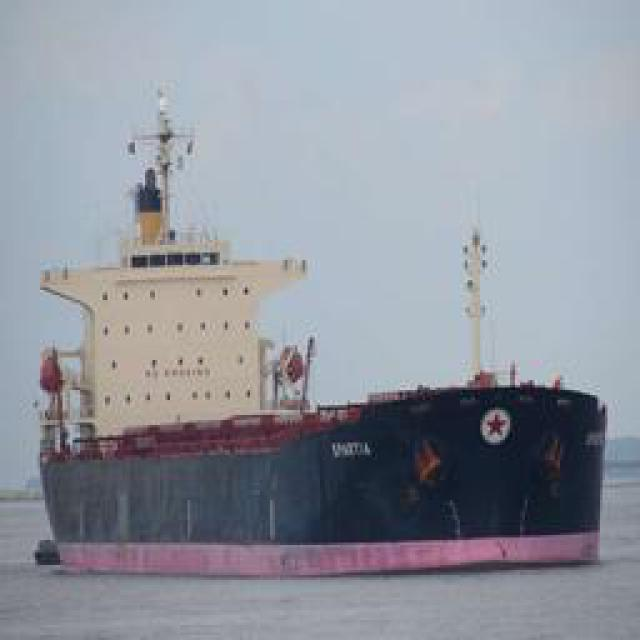Ship: (17, 80, 621, 592)
